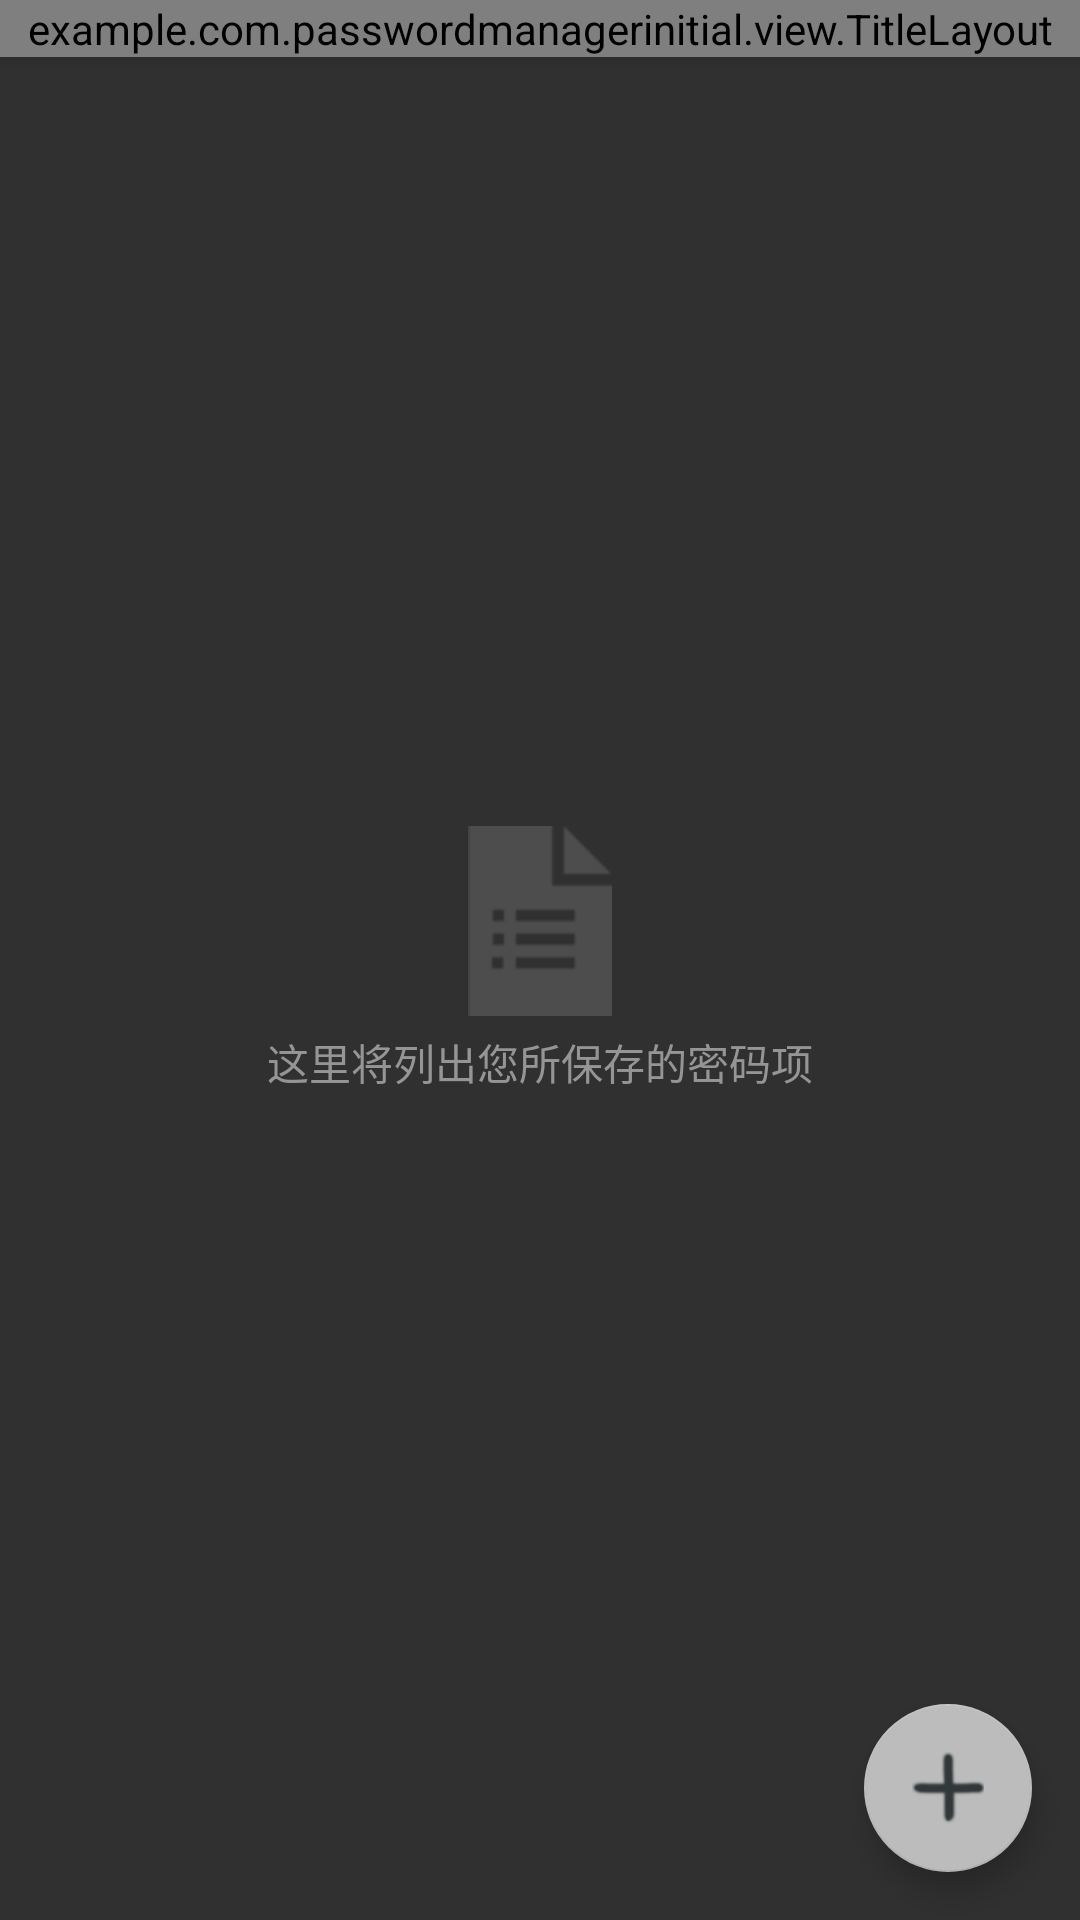

Where to tap for icons on this 1080px×1920px app screen, as (x=x, y=y):
add: (x=948, y=1788)
list center: (x=541, y=921)
